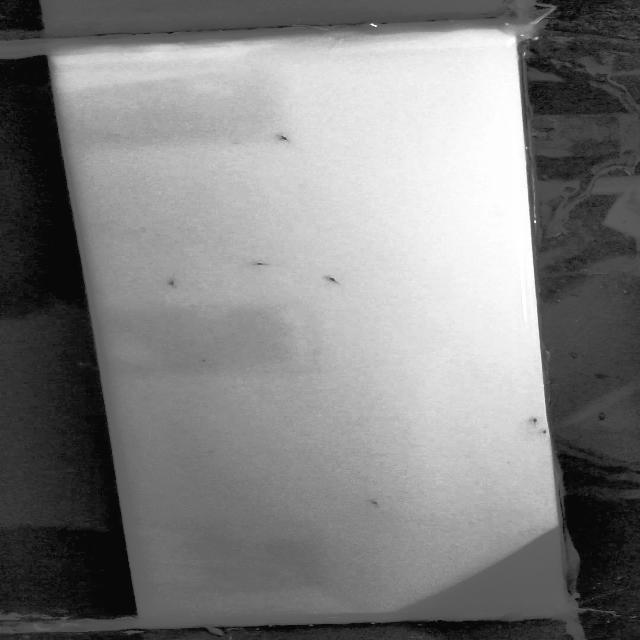shrimp: (335, 491, 400, 516), (143, 270, 201, 298), (317, 262, 353, 294), (259, 125, 306, 148), (508, 409, 545, 433), (239, 254, 274, 278)
